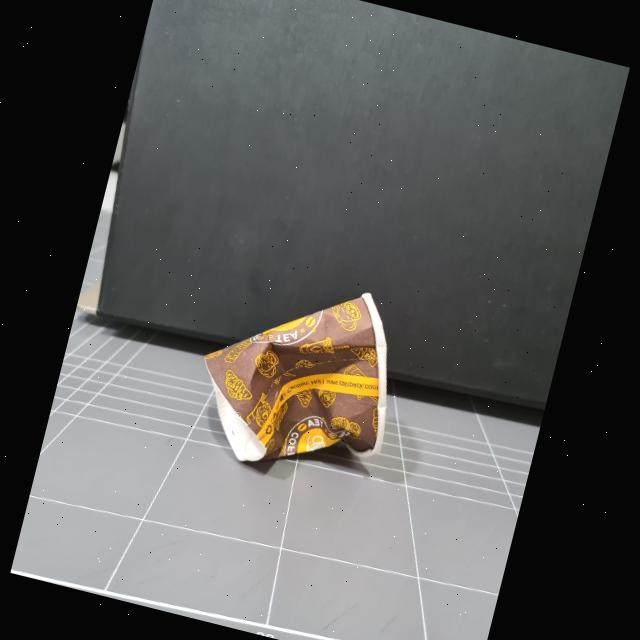trash: (182, 254, 424, 492)
